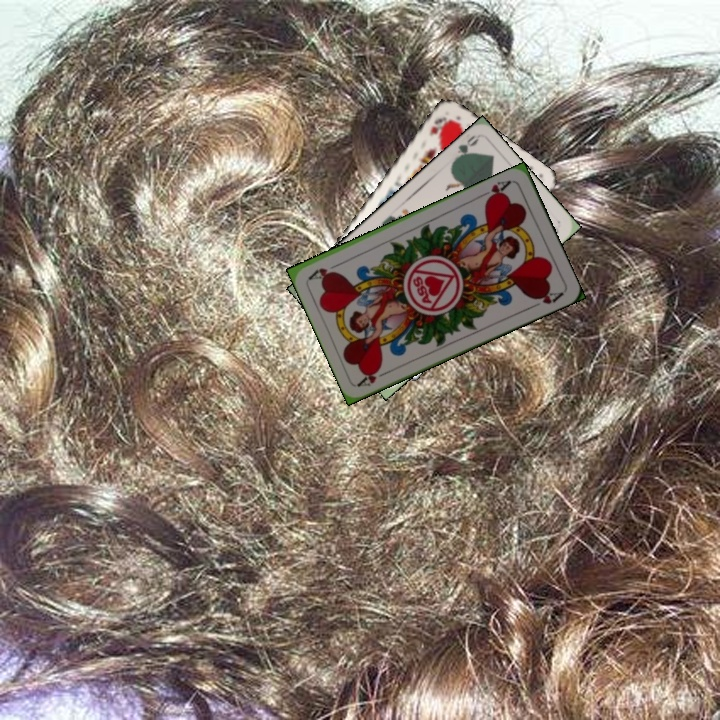GO: (449, 131, 481, 167)
HA: (476, 176, 514, 204), (355, 363, 394, 389)
HK: (425, 113, 450, 139)
